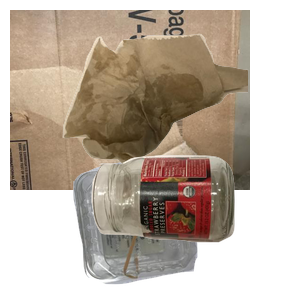cardboard: (10, 10, 250, 190)
glass: (89, 153, 300, 300)
plastic: (71, 154, 300, 300)
trash: (60, 31, 300, 189)
